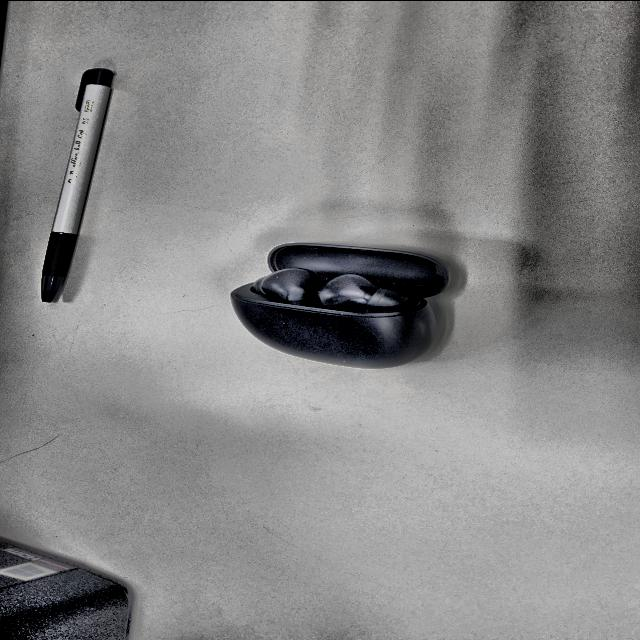Bluetooth headphones: (231, 242, 448, 367)
